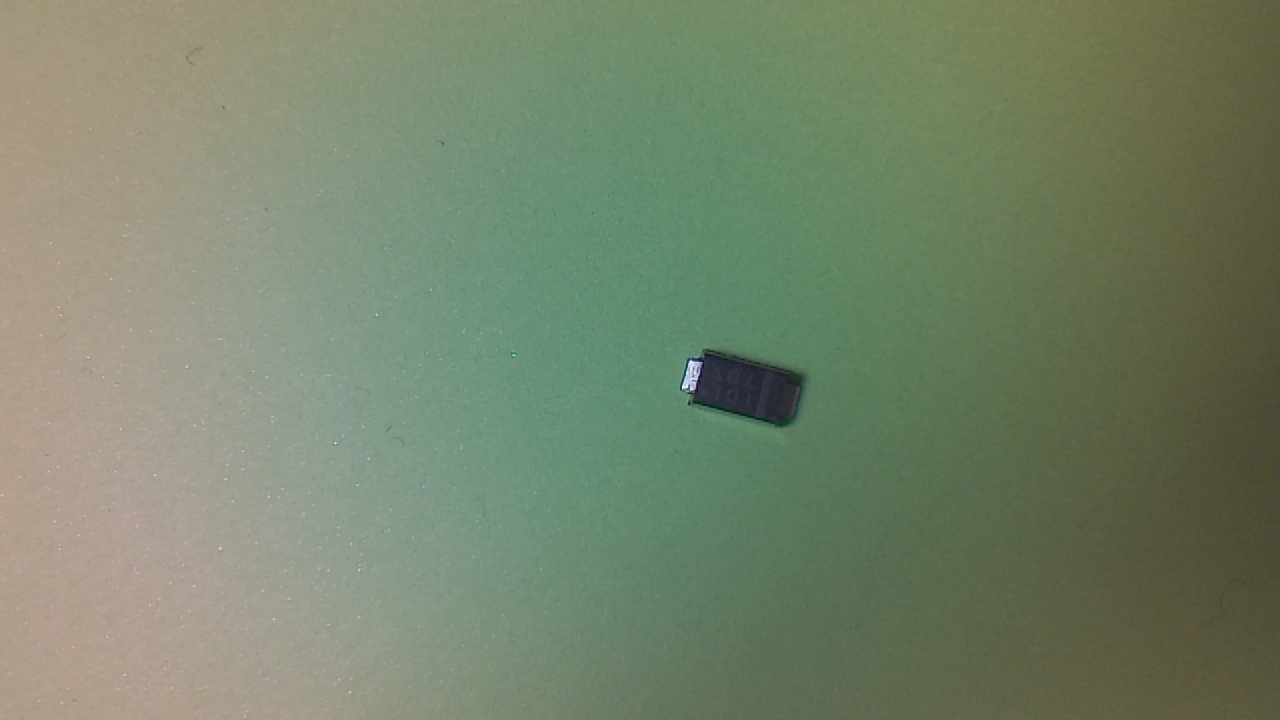Diode: (683, 347, 809, 433)
